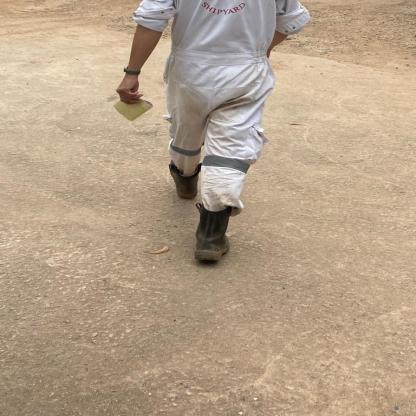bota: (189, 202, 233, 263), (167, 157, 203, 202)
